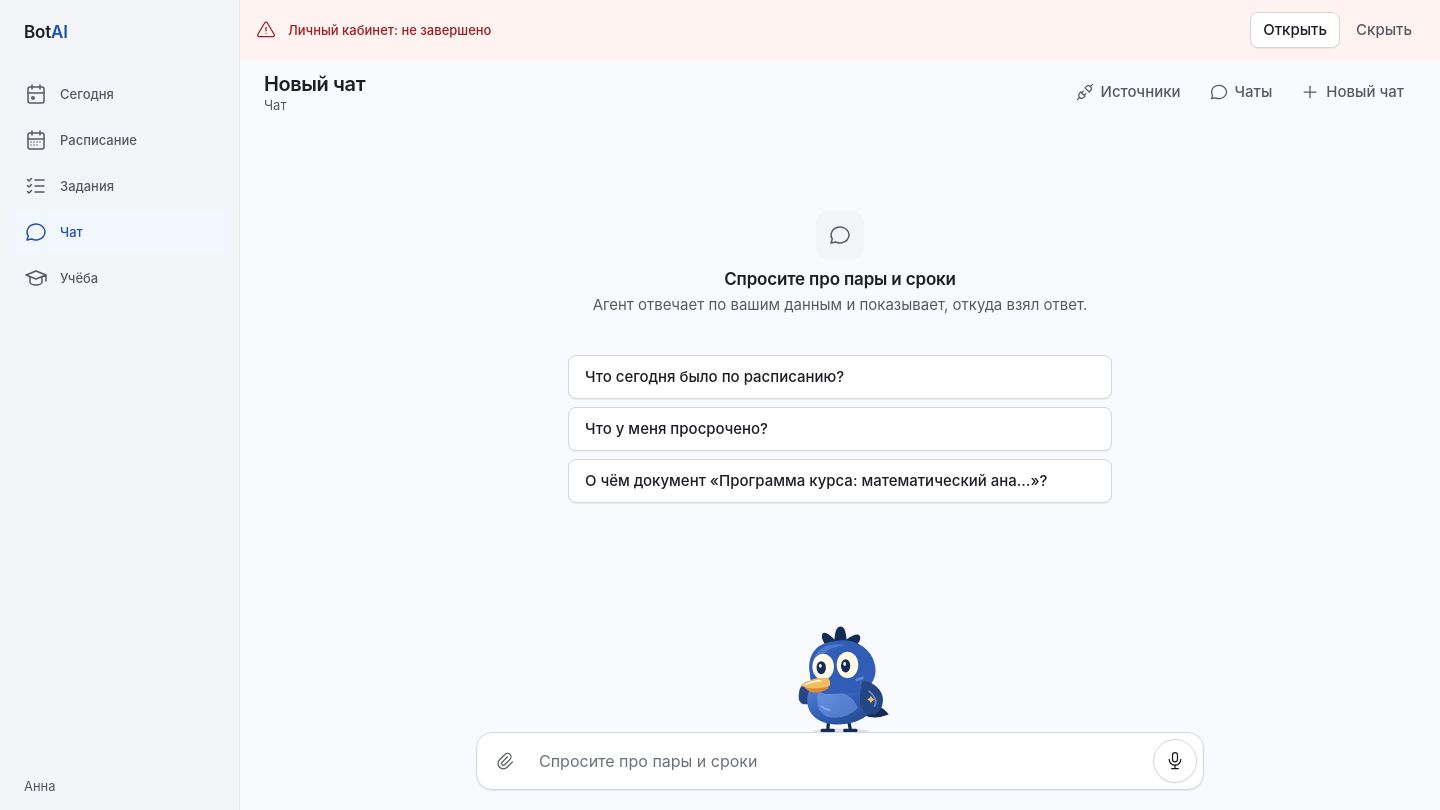
Test: один тред: подключение, вход, вопросы агента и ответы в одной ленте › пароль, написанный в обычное поле (409 secret_in_chat): стёрт из очереди и хранилища, в поле не вернулся
This screenshot has width=1440, height=810.
Expected: the heading "Спросите про пары и сроки" is shown, [724,268,956,288]
In the text box named "Сообщение агенту": (840, 761) [531,739,1149,783], type "correct-horse-battery"
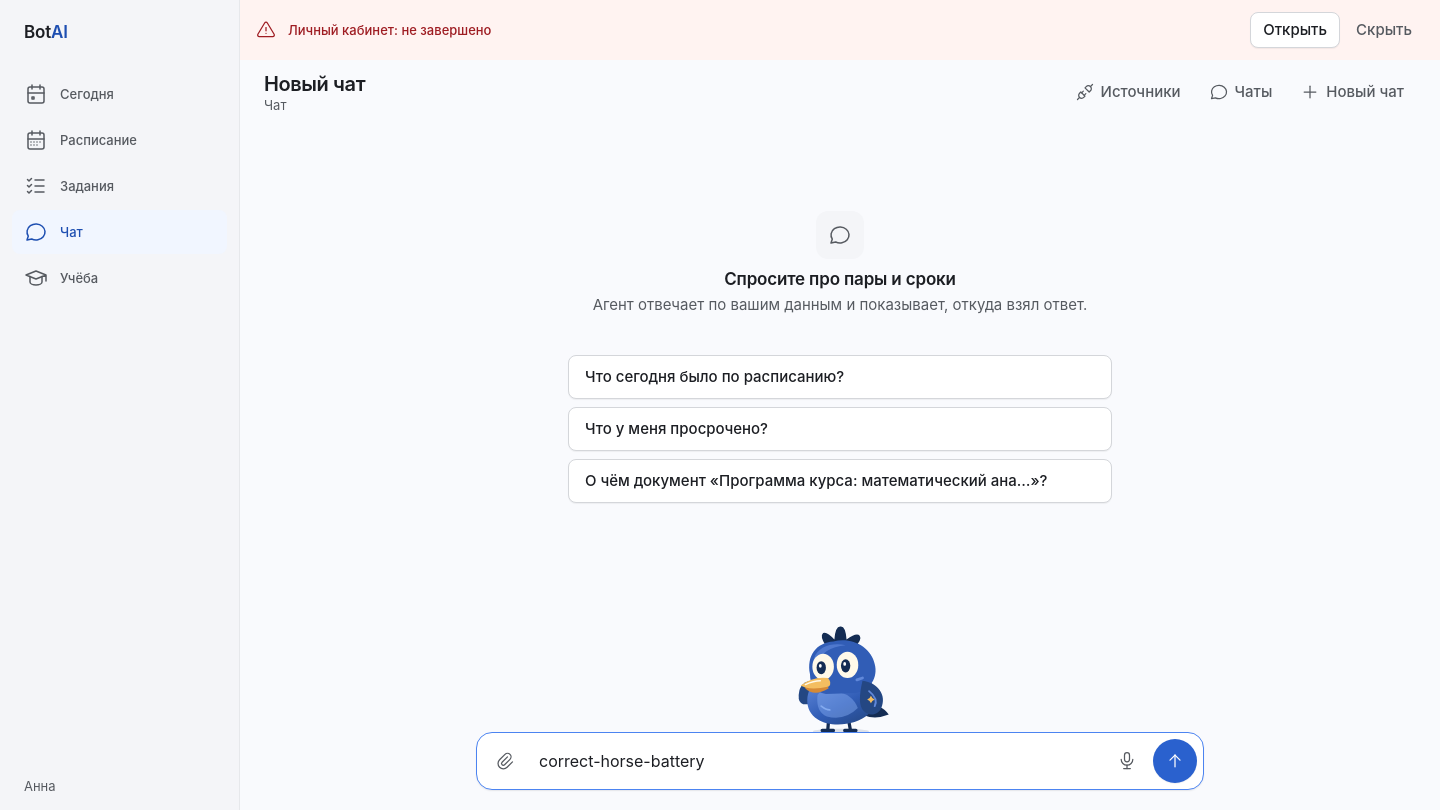
Click the button named "Отправить": (1175, 761) [1153,739,1197,783]
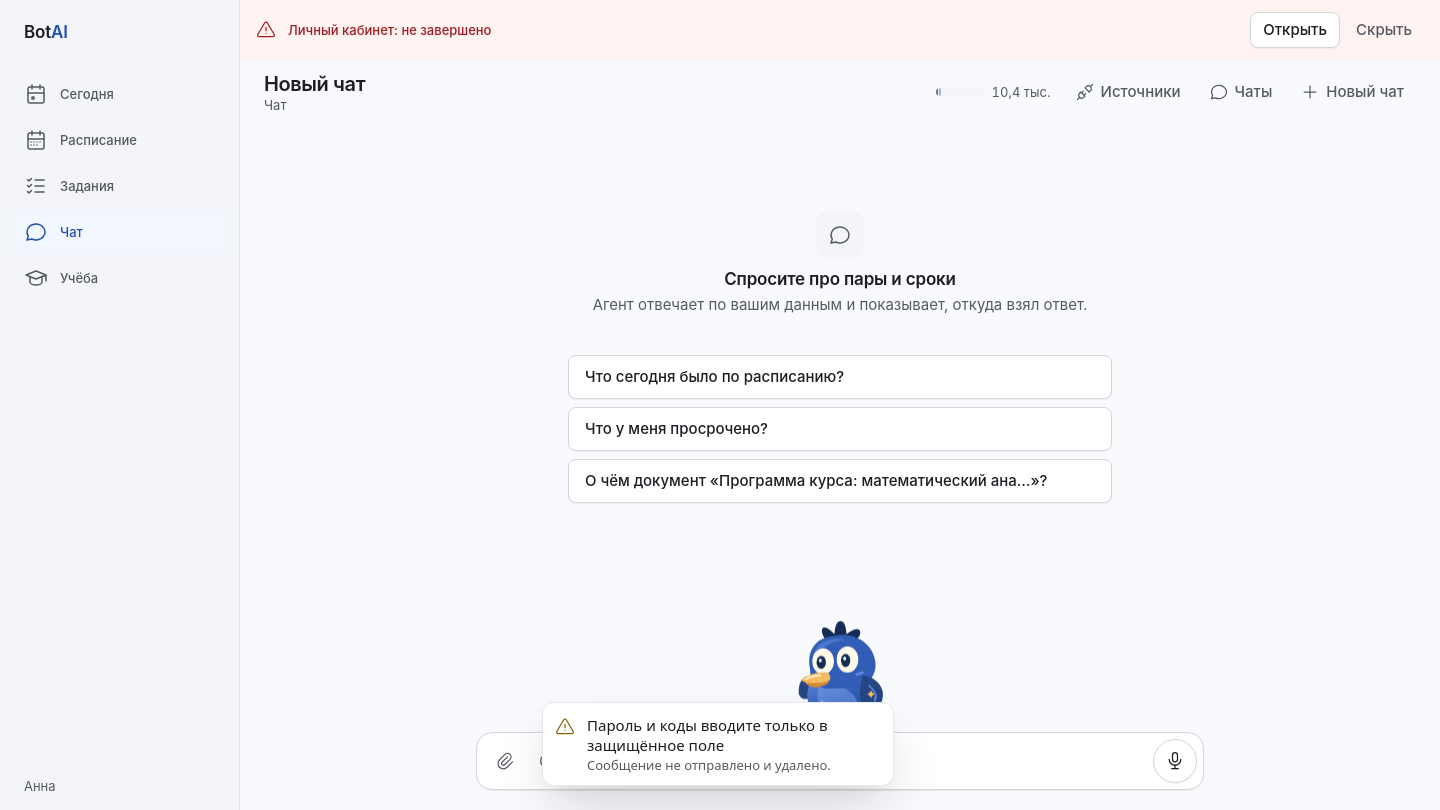
Expected: the text "correct-horse-battery" is not shown
Expected: the text "Пароль и коды вводите только в защищённое поле" is shown, [587,715,828,755]
Expected: the text box named "Сообщение агенту" is empty, [531,739,1149,783]
